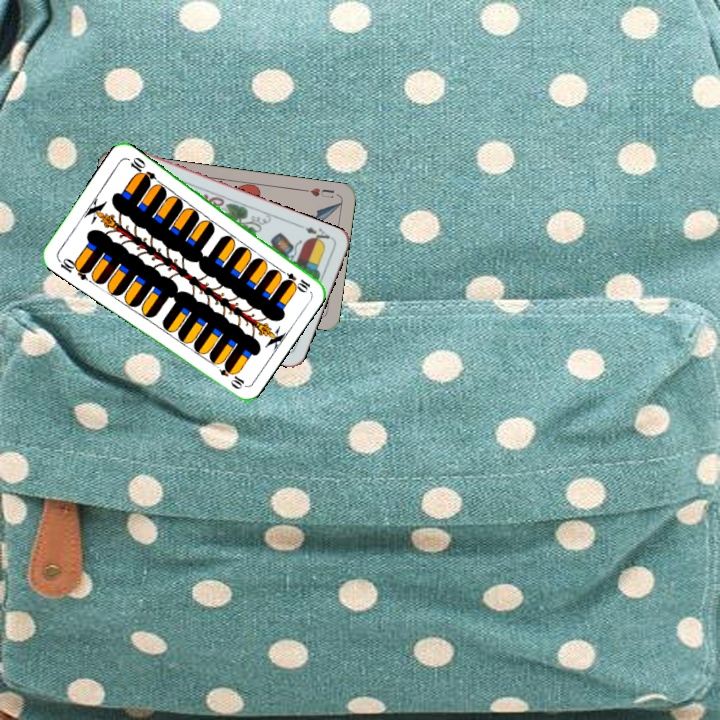E10: (275, 265, 313, 294), (54, 254, 92, 283)
EA: (301, 223, 335, 247)
HU: (299, 184, 336, 201)
